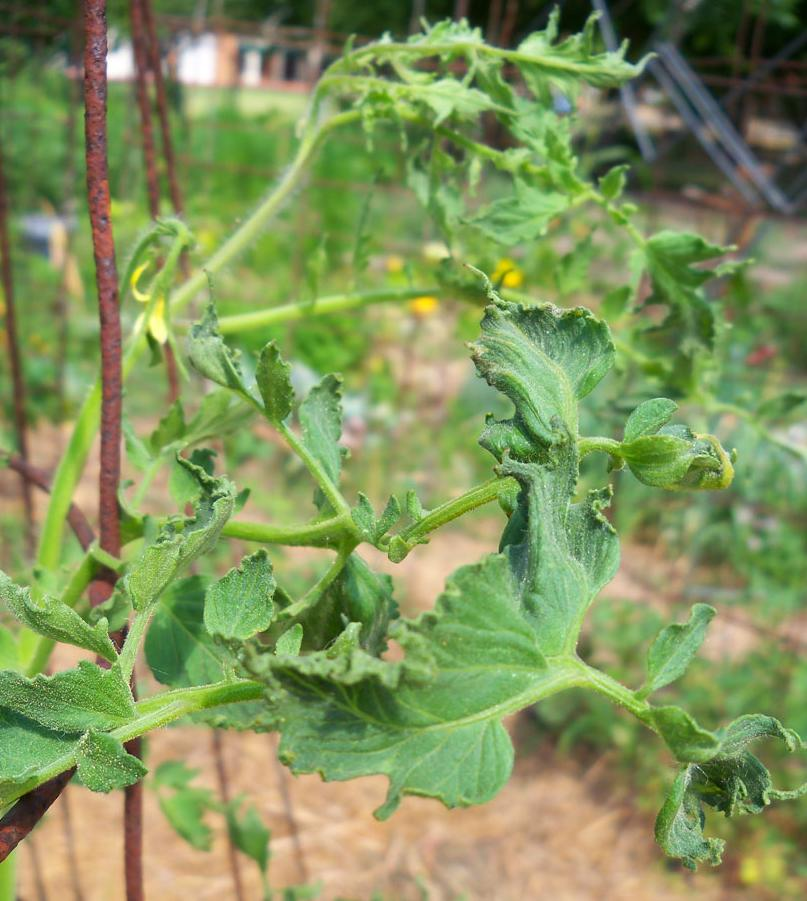Tomato leaf mosaic virus: (277, 553, 584, 805), (463, 262, 623, 675), (644, 680, 807, 891), (0, 658, 144, 806), (197, 547, 283, 642), (299, 360, 351, 493)
